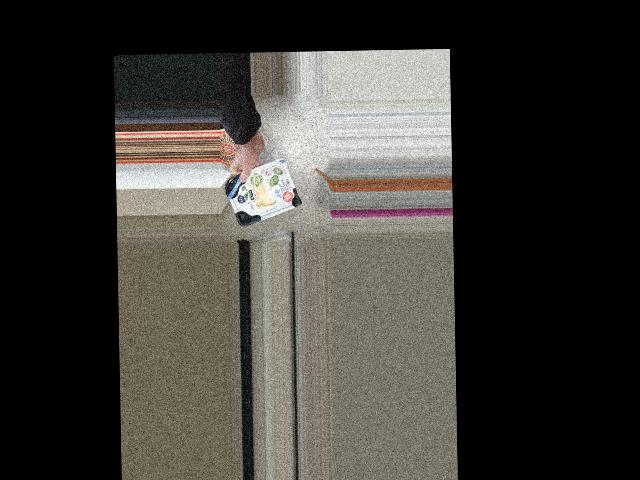cheese: (232, 165, 294, 218)
